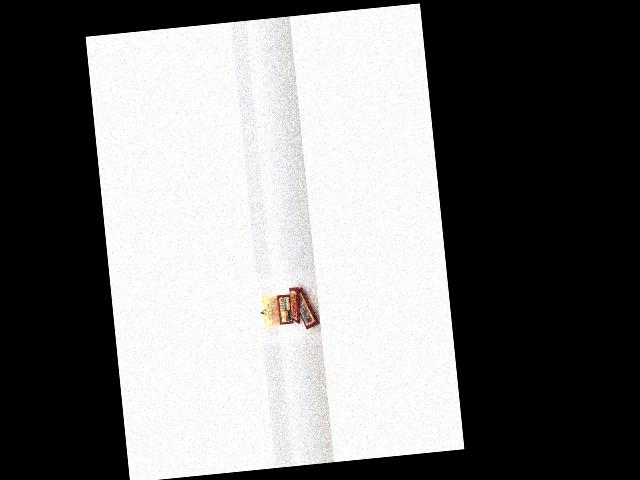chocolate: (294, 283, 324, 338)
